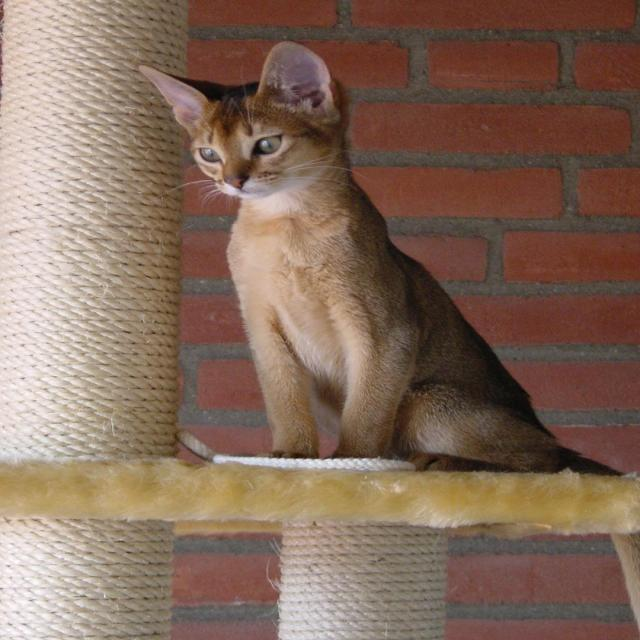Abyssinian: (128, 33, 640, 640)
